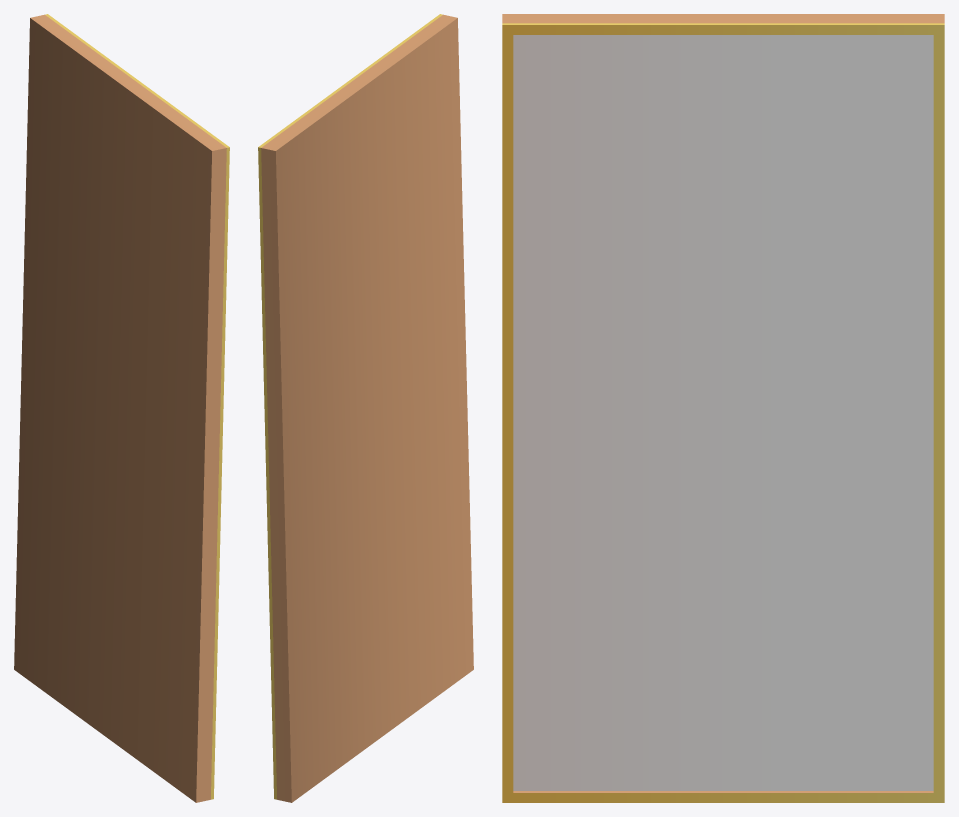
The model's file is marco.fbx.
The picture shows the model from 3 angles, left to right: view 1: azimuth 30°, elevation 25°; view 2: azimuth 150°, elevation 25°; view 3: azimuth 270°, elevation 25°; orthographic projection. The views are drawn at different scales.
Visible parts, largest first — view 1: marco; view 2: marco; view 3: marco.
Part boxes in pixels (x1,y1,x2,y2): marco: (14, 14, 229, 802); marco: (258, 14, 473, 802); marco: (502, 14, 944, 802).
Bounding box in the file's own units: 2.2 × 40.34 × 20.53.
